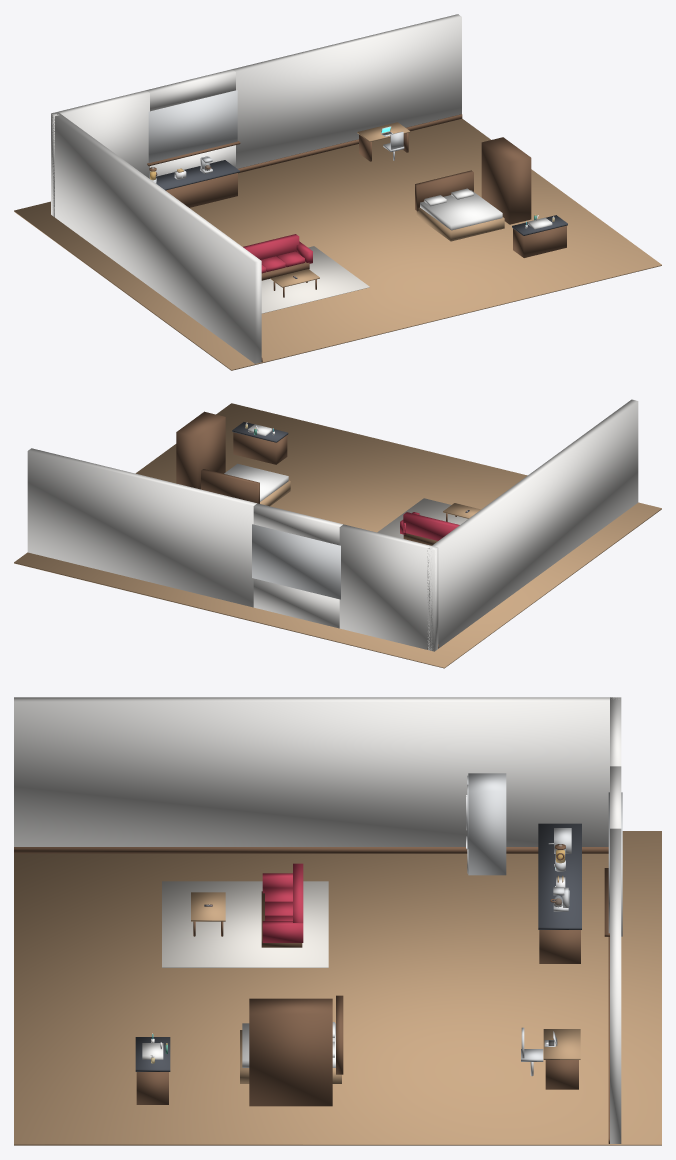
The model's file is house.glb.
3 renders of one model, top to bottom at view 1: azimuth 30°, elevation 25°; view 2: azimuth 150°, elevation 25°; view 3: azimuth 270°, elevation 25°, orthographic. The views are drawn at different scales.
Visible parts, largest first — view 1: House_Diorama, House_Bed, Kitchen_Counter, Sofa, Bathroom_Vanity, Study_Desk, Living_Table; view 2: House_Diorama, House_Bed, Bathroom_Vanity, Sofa; view 3: House_Diorama, House_Bed, Kitchen_Counter, Refrigerator, Sofa, Study_Desk, Bathroom_Vanity, Living_Table.
Boxes of the visible parts, x1=… form: House_Diorama: x1=14, y1=14, x2=661, y2=370; House_Bed: x1=415, y1=137, x2=531, y2=241; Kitchen_Counter: x1=156, y1=160, x2=239, y2=207; Sofa: x1=243, y1=234, x2=312, y2=280; Bathroom_Vanity: x1=512, y1=215, x2=567, y2=257; Study_Desk: x1=357, y1=122, x2=410, y2=161; Living_Table: x1=270, y1=269, x2=319, y2=297; House_Diorama: x1=14, y1=399, x2=661, y2=668; House_Bed: x1=176, y1=411, x2=290, y2=506; Bathroom_Vanity: x1=232, y1=422, x2=288, y2=464; Sofa: x1=400, y1=512, x2=459, y2=545; House_Diorama: x1=14, y1=697, x2=661, y2=1145; House_Bed: x1=240, y1=995, x2=343, y2=1106; Kitchen_Counter: x1=538, y1=823, x2=581, y2=963; Refrigerator: x1=466, y1=773, x2=506, y2=875; Sofa: x1=261, y1=863, x2=303, y2=947; Study_Desk: x1=521, y1=1027, x2=580, y2=1089; Bathroom_Vanity: x1=135, y1=1037, x2=170, y2=1104; Living_Table: x1=191, y1=892, x2=225, y2=936.
Bounding box in the file's own units: 16 × 3.64 × 14.
